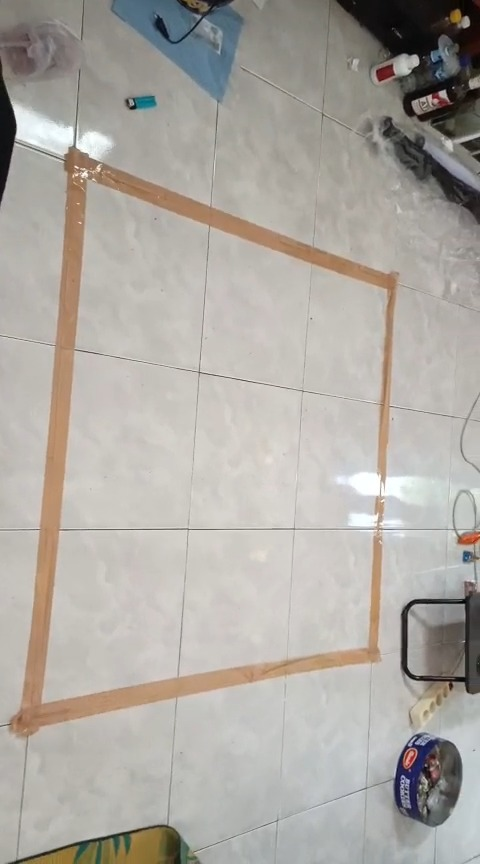floor marking: (11, 147, 395, 736)
